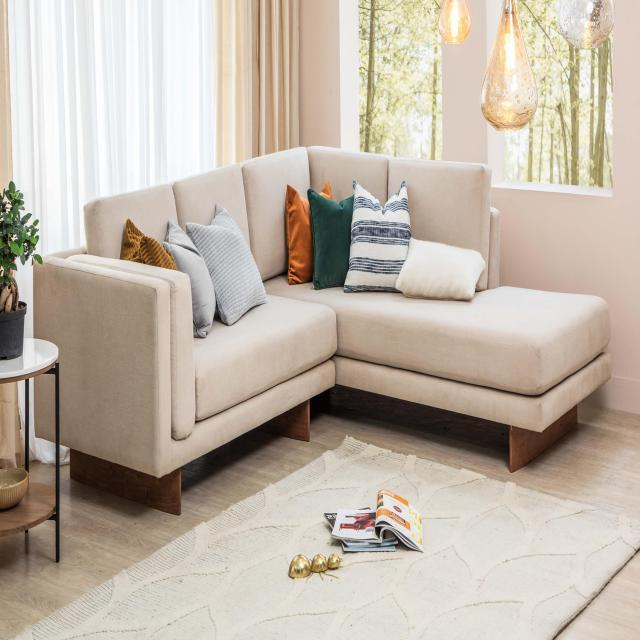sofa: (30, 143, 612, 515)
